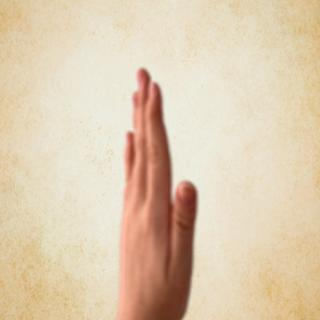Right: (110, 65, 208, 311)
